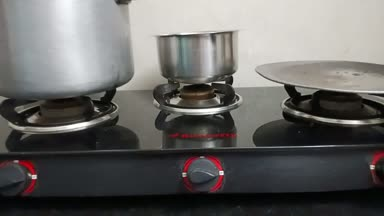flame_gas_off: (0, 77, 130, 199), (160, 81, 243, 195)
